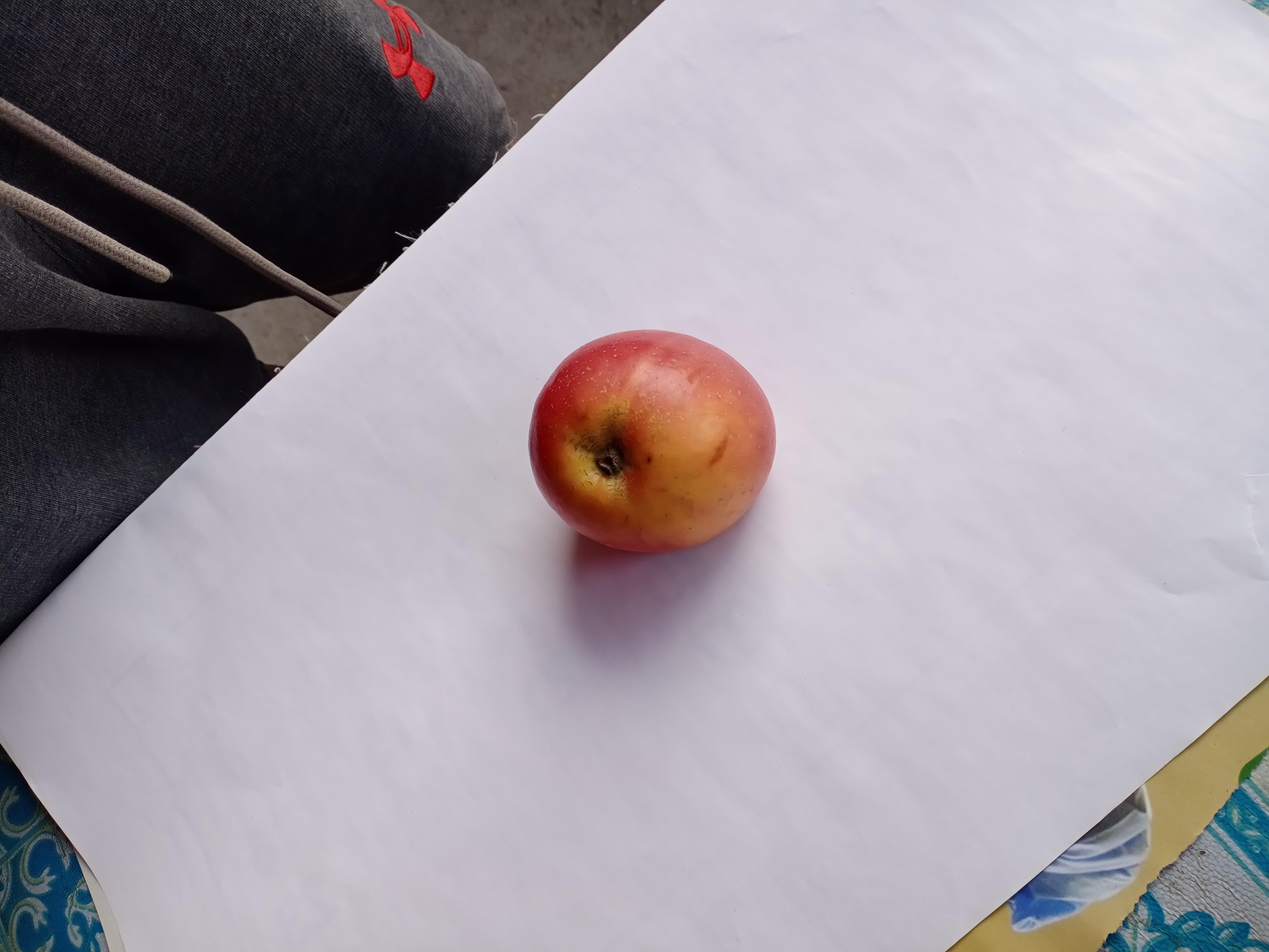Apple Ripe: (526, 323, 788, 567)
